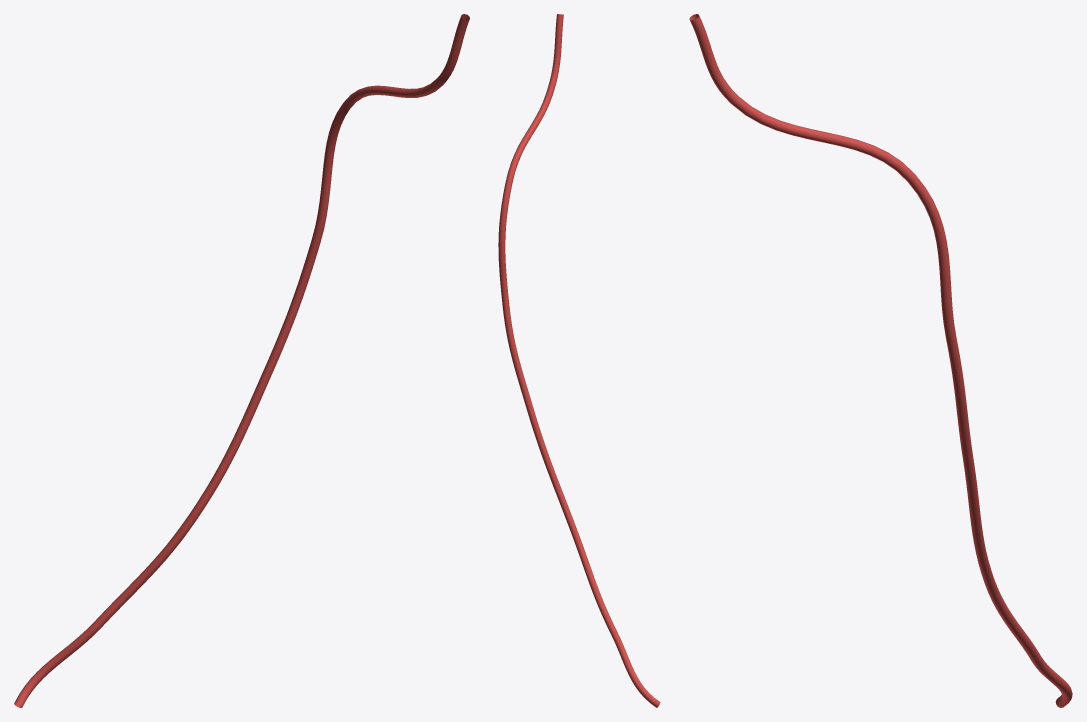
3 views of the same model, side by side, from view 1: azimuth 30°, elevation 25°; view 2: azimuth 150°, elevation 25°; view 3: azimuth 270°, elevation 25° (orthographic). The views are drawn at different scales.
Parts seen in each view (by area): view 1: 左侧腭大动脉; view 2: 左侧腭大动脉; view 3: 左侧腭大动脉.
Part boxes in pixels (bbox=[...]): 左侧腭大动脉: bbox=[14, 14, 469, 707]; 左侧腭大动脉: bbox=[498, 14, 660, 707]; 左侧腭大动脉: bbox=[689, 14, 1072, 707].
Size of the model in its own units: 0.0216 by 0.0516 by 0.021.
